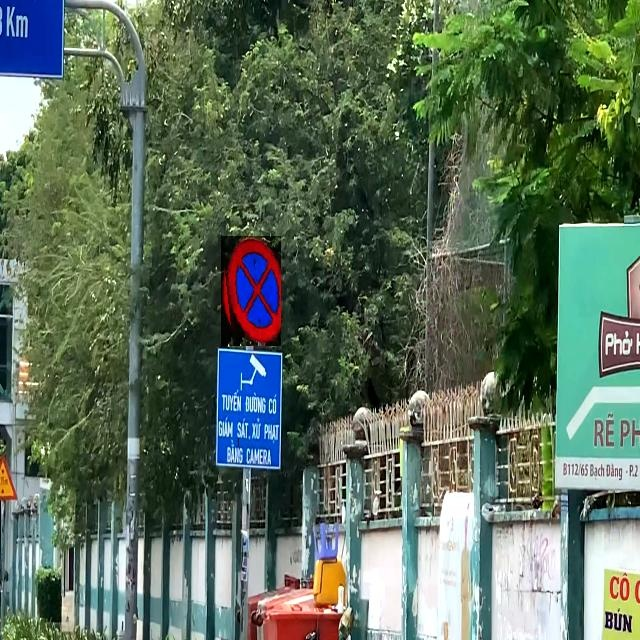bien_cam: (221, 236, 281, 346)
